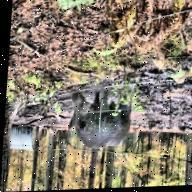boar: (66, 88, 134, 151)
